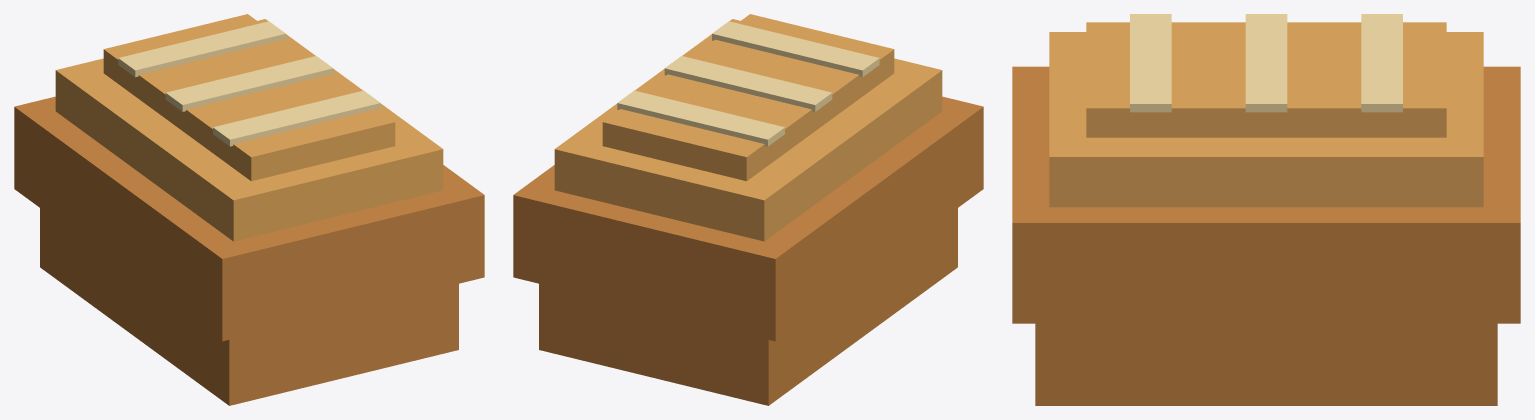
File: bread.glb
3 renders of one model, left to right at view 1: azimuth 30°, elevation 25°; view 2: azimuth 150°, elevation 25°; view 3: azimuth 270°, elevation 25°, orthographic. The views are drawn at different scales.
Parts seen in each view (by area): view 1: Bread shoulder, Lower crust, Raised crown, Crown crest, Baked score.001, Baked score, Baked score.002; view 2: Bread shoulder, Lower crust, Raised crown, Crown crest, Baked score.001, Baked score, Baked score.002; view 3: Bread shoulder, Raised crown, Lower crust, Crown crest, Baked score.001, Baked score, Baked score.002.
Boxes of the visible parts, <box> form: Bread shoulder: <box>14,96,484,341</box>; Lower crust: <box>40,208,458,405</box>; Raised crown: <box>55,19,443,241</box>; Crown crest: <box>103,14,395,181</box>; Baked score.001: <box>165,56,333,111</box>; Baked score: <box>213,90,380,146</box>; Baked score.002: <box>118,21,285,77</box>; Bread shoulder: <box>513,96,983,341</box>; Lower crust: <box>539,208,957,405</box>; Raised crown: <box>554,19,942,241</box>; Crown crest: <box>602,14,894,181</box>; Baked score.001: <box>664,56,832,111</box>; Baked score: <box>712,21,879,77</box>; Baked score.002: <box>617,90,784,146</box>; Bread shoulder: <box>1012,66,1520,323</box>; Raised crown: <box>1049,32,1483,207</box>; Lower crust: <box>1035,323,1497,405</box>; Crown crest: <box>1086,22,1446,137</box>; Baked score.001: <box>1245,14,1287,112</box>; Baked score: <box>1130,14,1171,112</box>; Baked score.002: <box>1361,14,1402,112</box>.
Size of the model in its own units: 0.08 by 0.0665 by 0.11.
